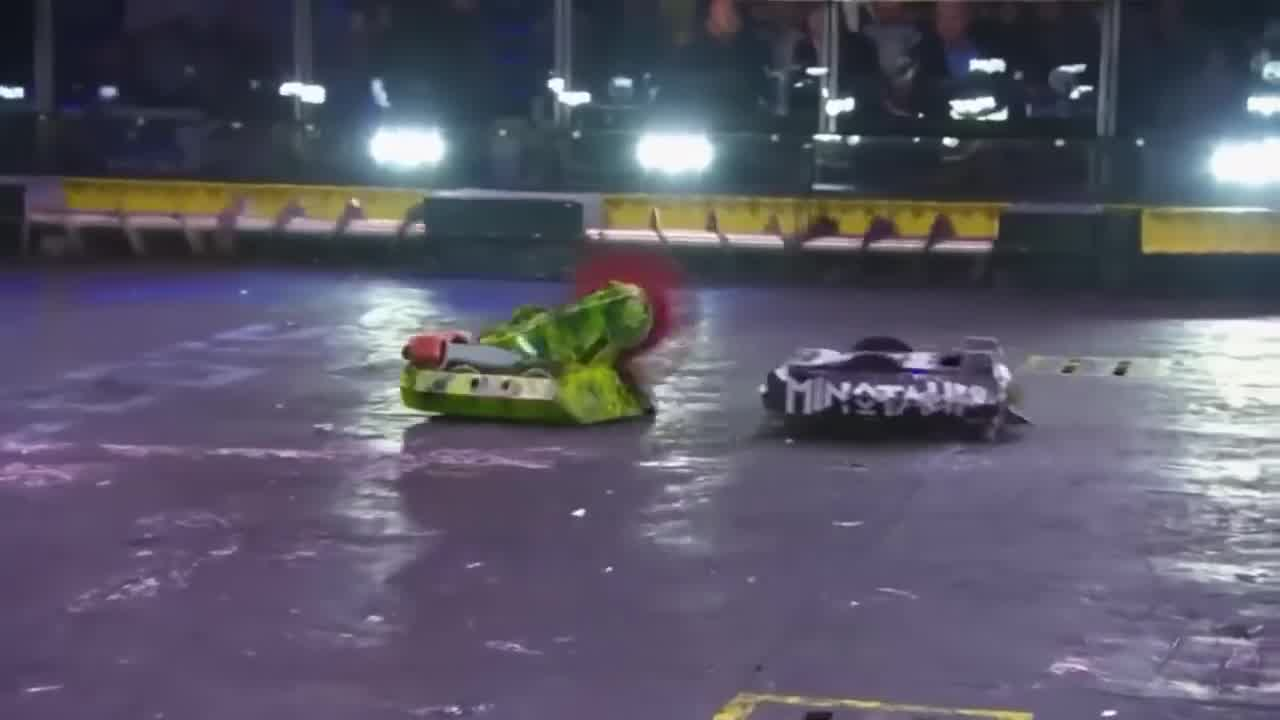combatbot: (396, 259, 672, 428), (763, 336, 1026, 446)
